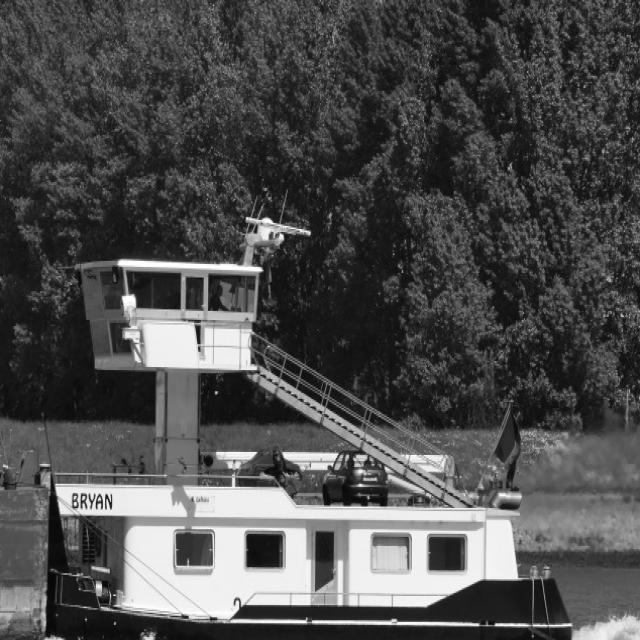tugboat: (1, 213, 615, 640)
